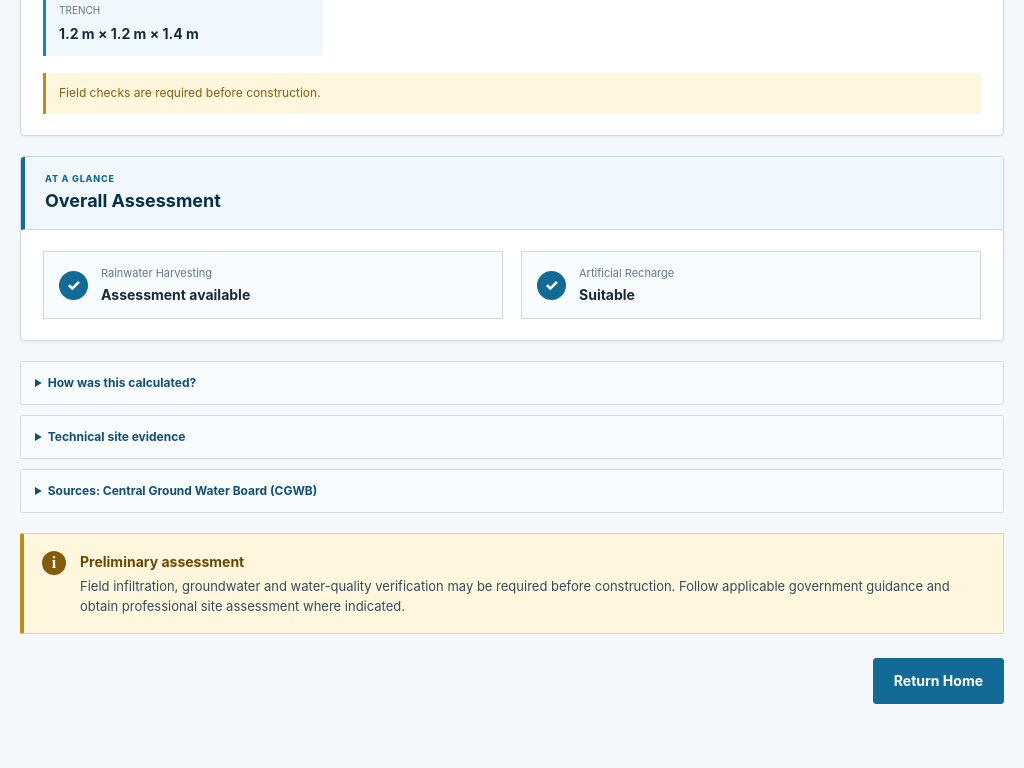
Test: assessment results › renders a compact supported AR result and keeps engineering evidence expandable
The image size is (1024, 768).
(page scrolled)
Expected: the text "1.2 m × 1.2 m × 1.4 m" is shown, [59,25,199,42]
Expected: the text "Field checks are required before construction." is shown, [43,73,981,114]
What coordinates should you click on to do the following:
click the heading "Technical site evidence"
I would click on:
 (117, 436)
Its box is [21,416,1003,458].
(page scrolled)
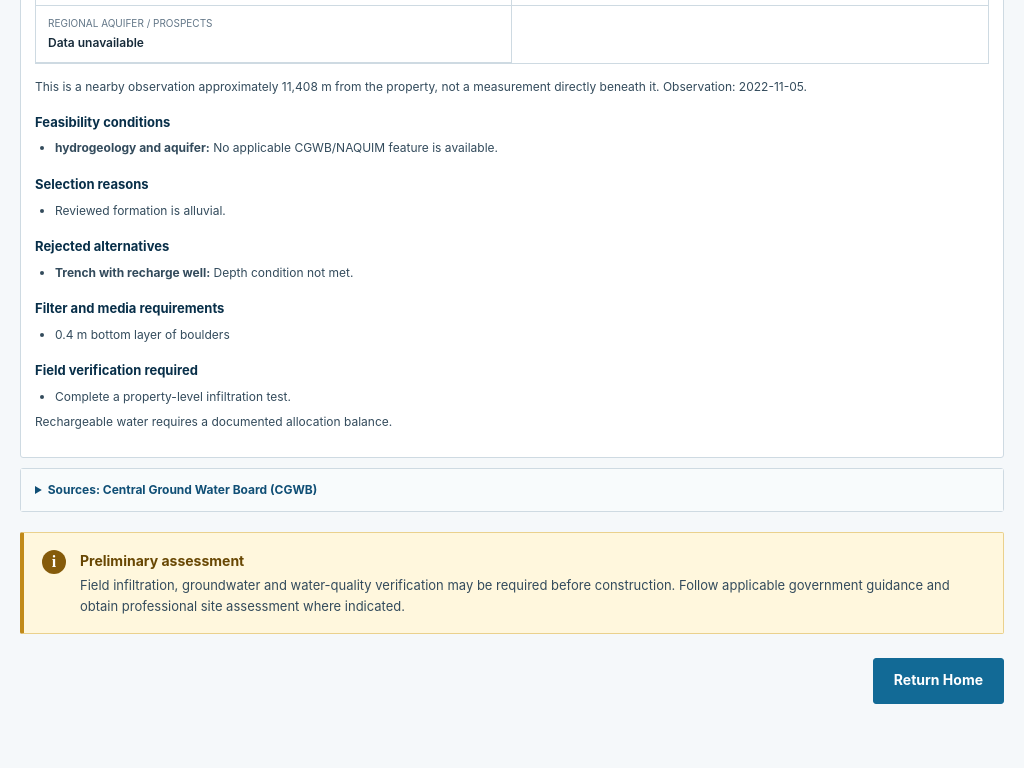
Now the list item "Reviewed formation is alluvial." is shown, box [55,202,226,218]
Now the list item "Depth condition not met." is shown, box [214,265,353,280]
Now the list item "Complete a property-level infiltration test." is shown, box [55,389,291,404]
